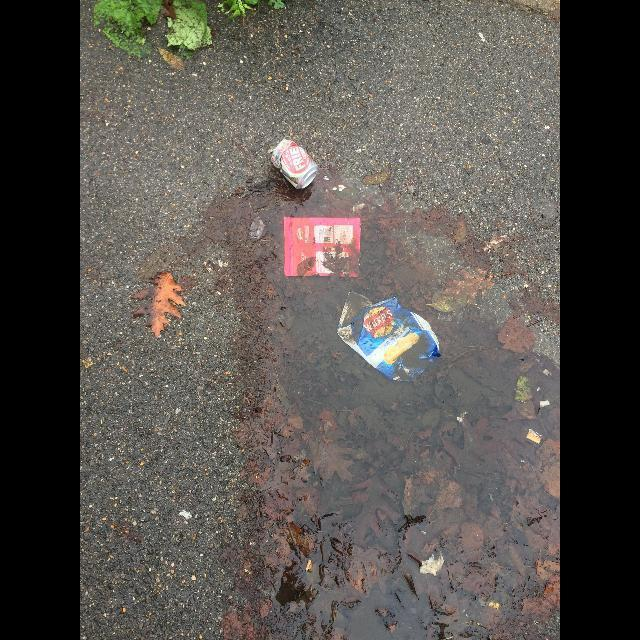Plastic: (337, 290, 441, 382), (284, 217, 361, 277)
